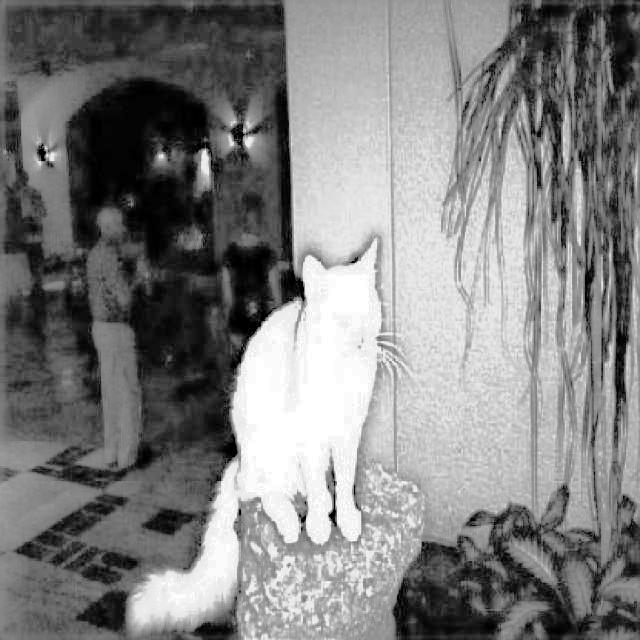Cat: (123, 237, 388, 640), (86, 202, 146, 468)
